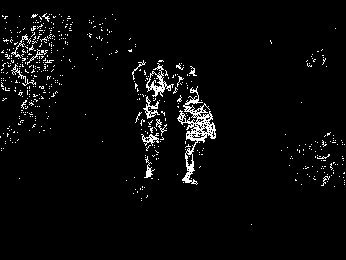person: (178, 91, 217, 187), (133, 95, 170, 180), (146, 58, 171, 104), (129, 58, 152, 98)
